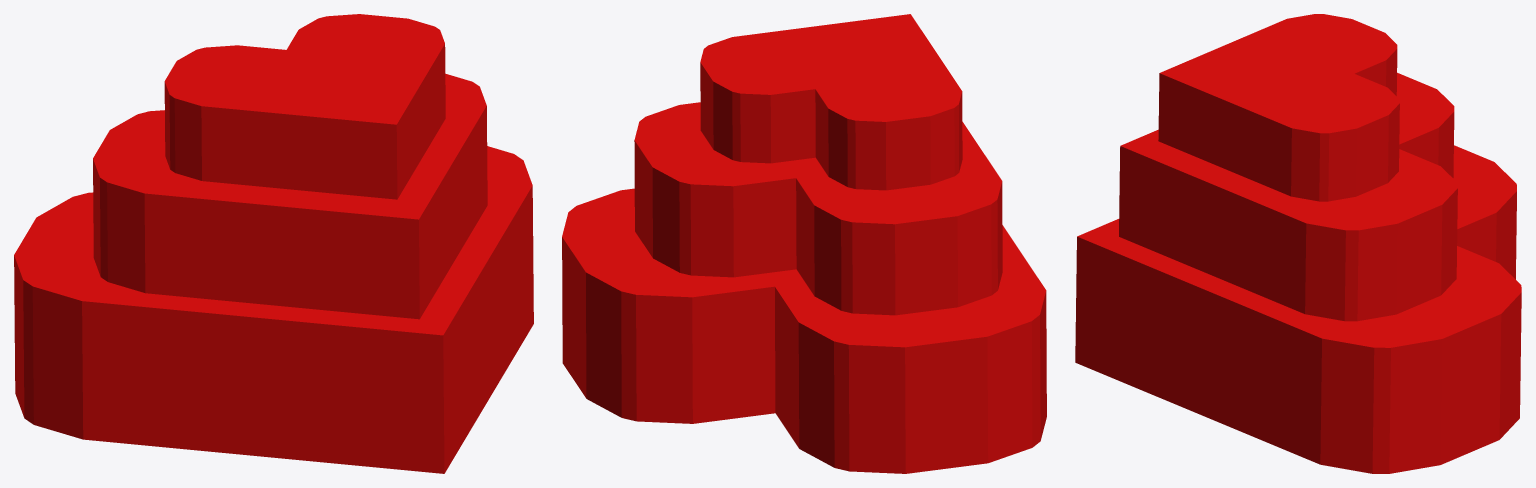
The model's file is heart3.glb.
The picture shows the model from 3 angles, left to right: view 1: azimuth 30°, elevation 25°; view 2: azimuth 150°, elevation 25°; view 3: azimuth 270°, elevation 25°; orthographic projection. The views are drawn at different scales.
Parts seen in each view (by area): view 1: Cube, Cube.001, Cube.002; view 2: Cube, Cube.001, Cube.002; view 3: Cube, Cube.001, Cube.002.
Boxes of the visible parts, x1,y1,x2,y2 form: Cube: (14, 146, 533, 473); Cube.001: (93, 73, 487, 319); Cube.002: (164, 14, 445, 199); Cube: (562, 188, 1046, 473); Cube.001: (634, 102, 1002, 315); Cube.002: (700, 14, 962, 190); Cube: (1075, 145, 1521, 473); Cube.001: (1119, 72, 1457, 321); Cube.002: (1158, 14, 1399, 201).
Size of the model in its own units: 4.11 by 2.54 by 3.5.
